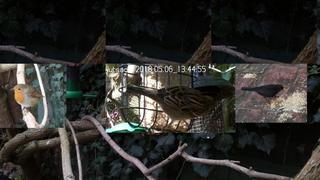blackbird: (240, 84, 287, 105)
robin: (10, 84, 46, 116)
sparrow: (126, 84, 215, 125)
